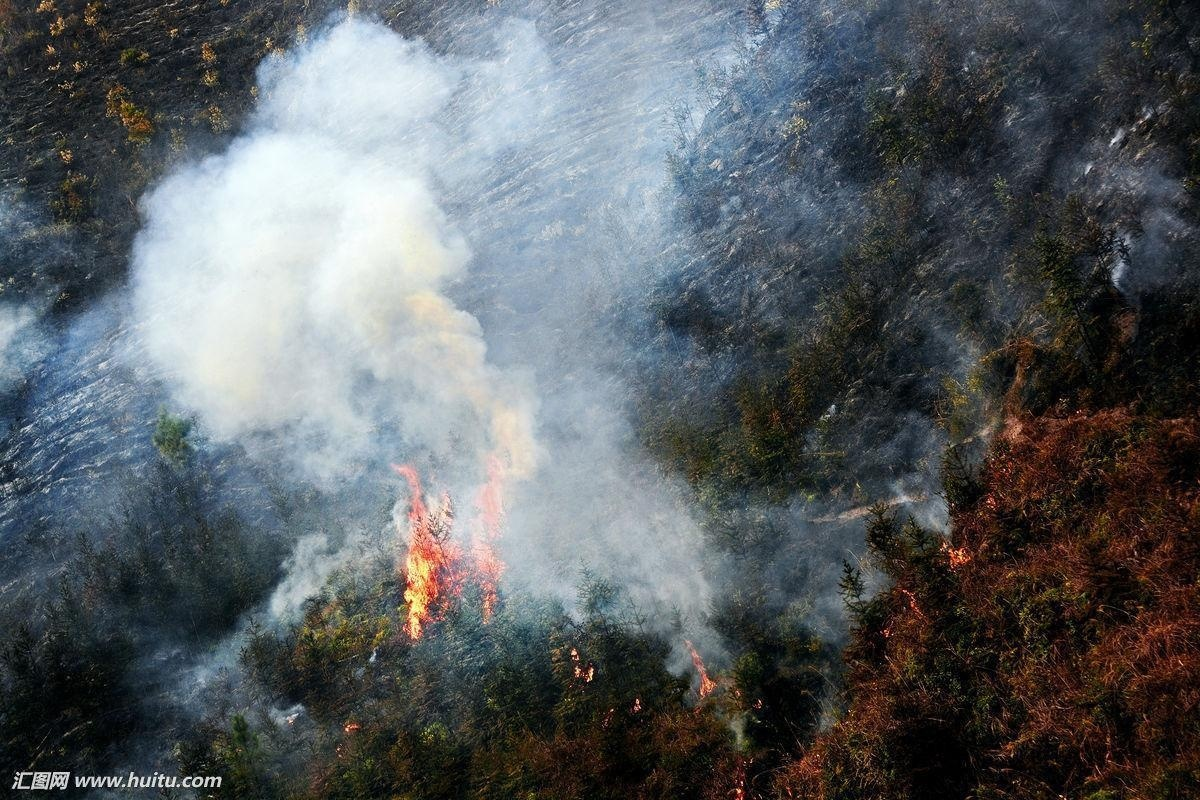fire: (392, 464, 511, 634), (679, 640, 719, 698), (557, 640, 596, 684), (937, 532, 973, 569), (341, 716, 361, 733)
